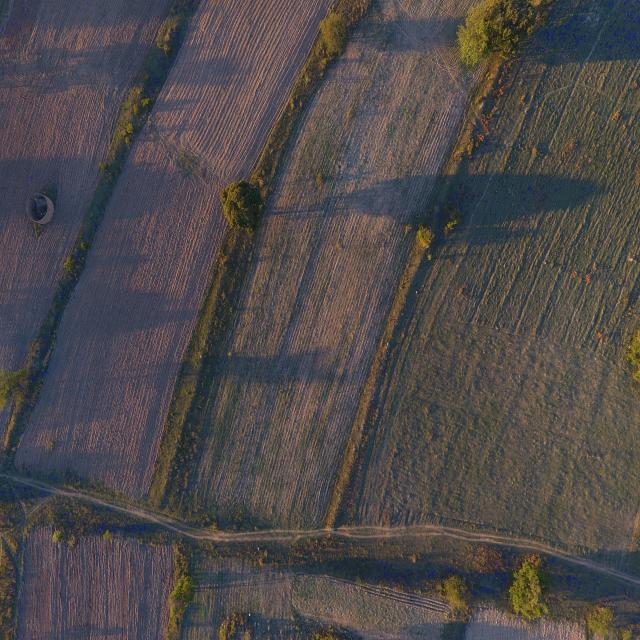boundaries: (118, 12, 523, 585), (7, 34, 191, 390)
